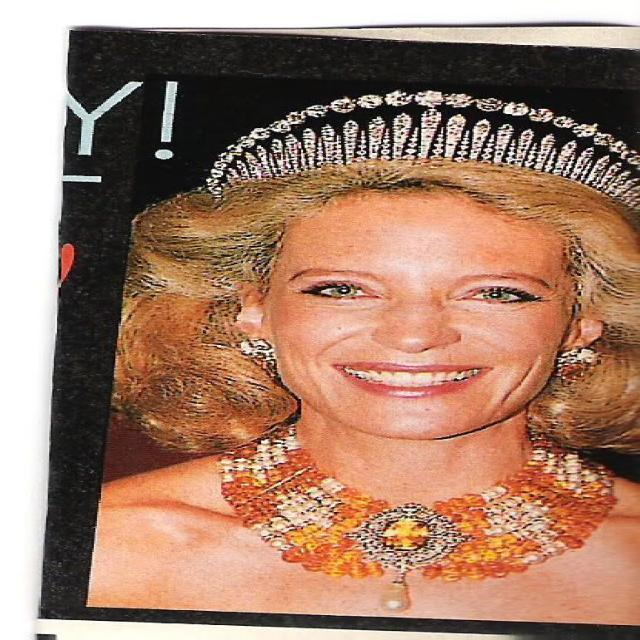Earring: (548, 338, 603, 394), (236, 326, 285, 380)
